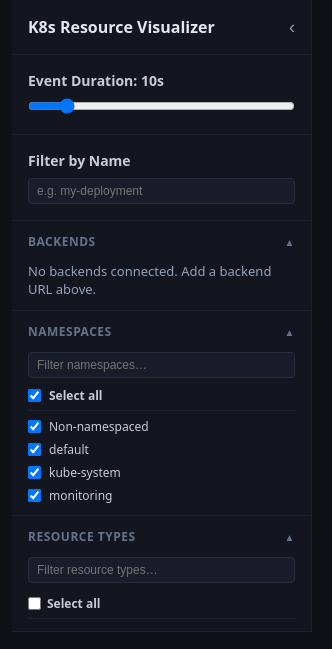
Test: Sidebar › filters namespaces by search text
The image size is (332, 649).
Type "kube" into the field with placeholder "Filter namespaces…". click: {"x": 162, "y": 365}
box: [28, 352, 295, 378]
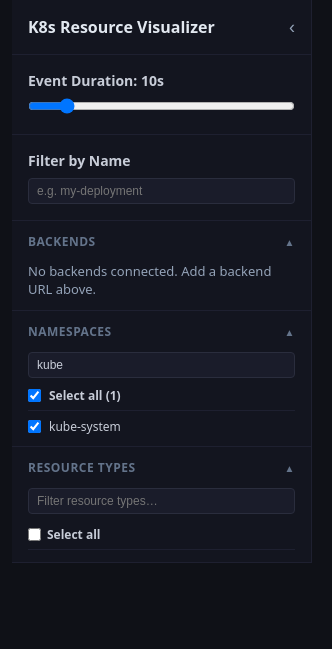
Expected: the text "kube-system" is shown, [28, 418, 121, 435]
Now the text "default" is gone
Now the text "monitoring" is gone
